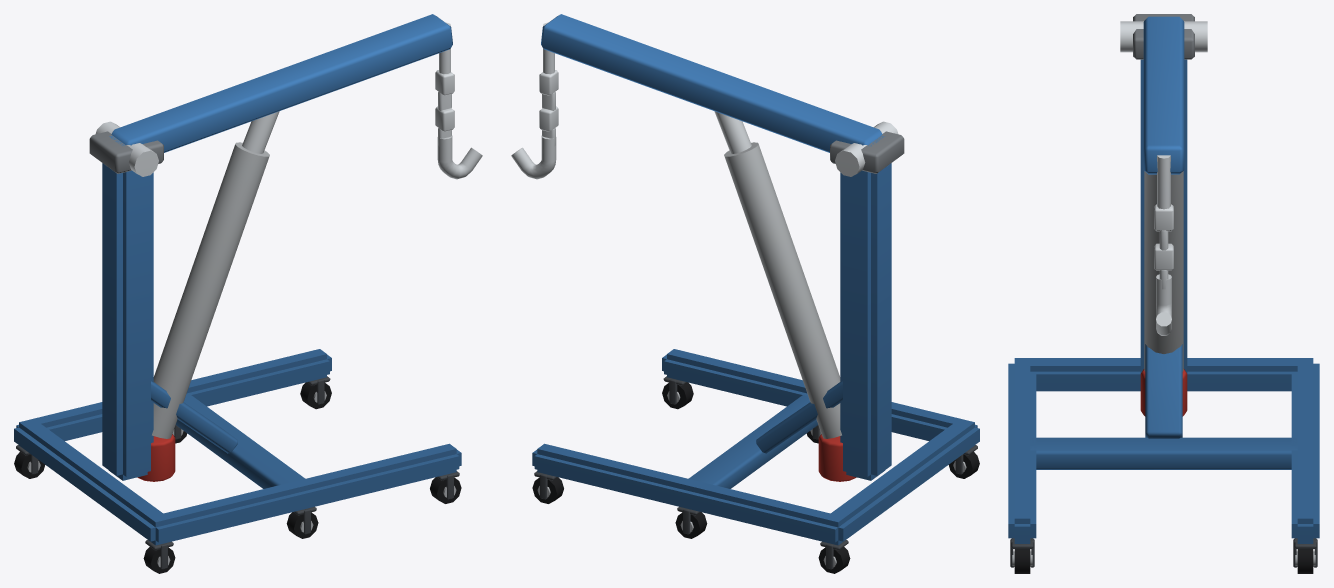
The model's file is SM_EngineHoist_01.glb.
3 renders of one model, left to right at view 1: azimuth 30°, elevation 25°; view 2: azimuth 150°, elevation 25°; view 3: azimuth 270°, elevation 25°, orthographic. The views are drawn at different scales.
Visible parts, largest first — view 1: SM_EngineHoist_01; view 2: SM_EngineHoist_01; view 3: SM_EngineHoist_01.
Part boxes in pixels (x1=…): SM_EngineHoist_01: x1=14, y1=14, x2=482, y2=573; SM_EngineHoist_01: x1=511, y1=14, x2=979, y2=573; SM_EngineHoist_01: x1=1008, y1=14, x2=1319, y2=573.
Size of the model in its own units: 1.62 by 1.63 by 1.
Materials: 1 (1 with a texture image).
